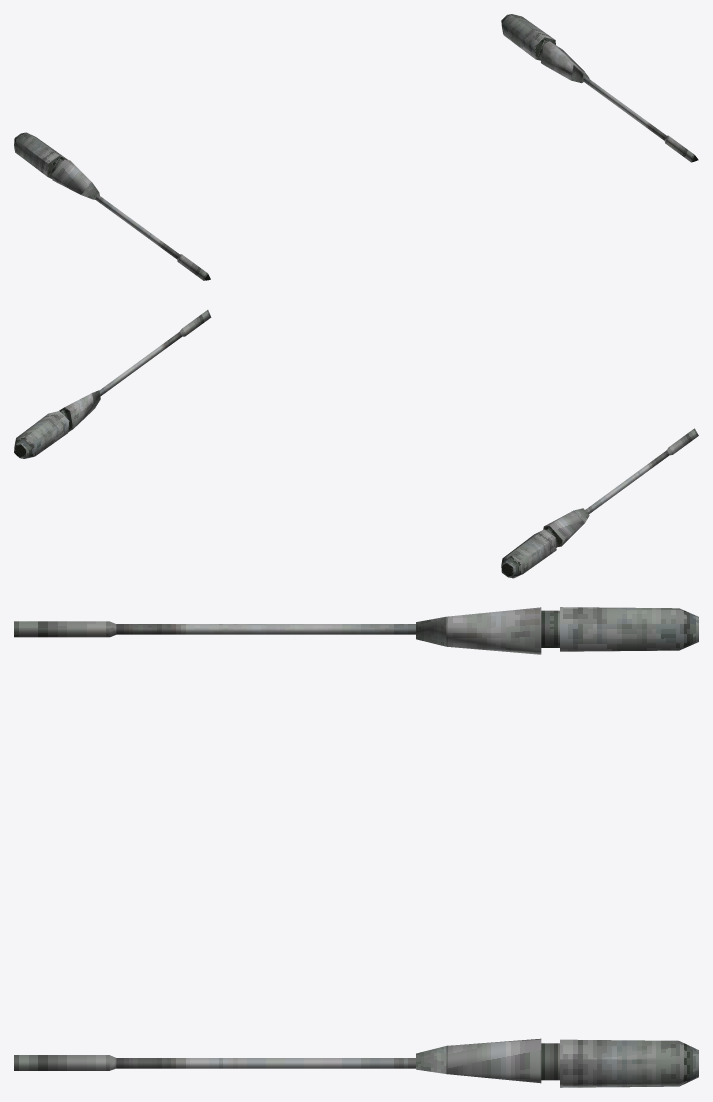
Rendered from hutt_fighter_medium_weapon2_s05_l2.fbx.
The picture shows the model from 3 angles, top to bottom: view 1: azimuth 30°, elevation 25°; view 2: azimuth 150°, elevation 25°; view 3: azimuth 270°, elevation 25°; orthographic projection. The views are drawn at different scales.
Visible parts, largest first — view 1: mesh_node; view 2: mesh_node; view 3: mesh_node.
Boxes of the visible parts, x1=… form: mesh_node: x1=14, y1=14, x2=698, y2=280; mesh_node: x1=14, y1=310, x2=698, y2=578; mesh_node: x1=14, y1=607, x2=698, y2=1087.
Size of the model in its own units: 13.73 by 0.652 by 8.72.
1 material, 1 textured.
